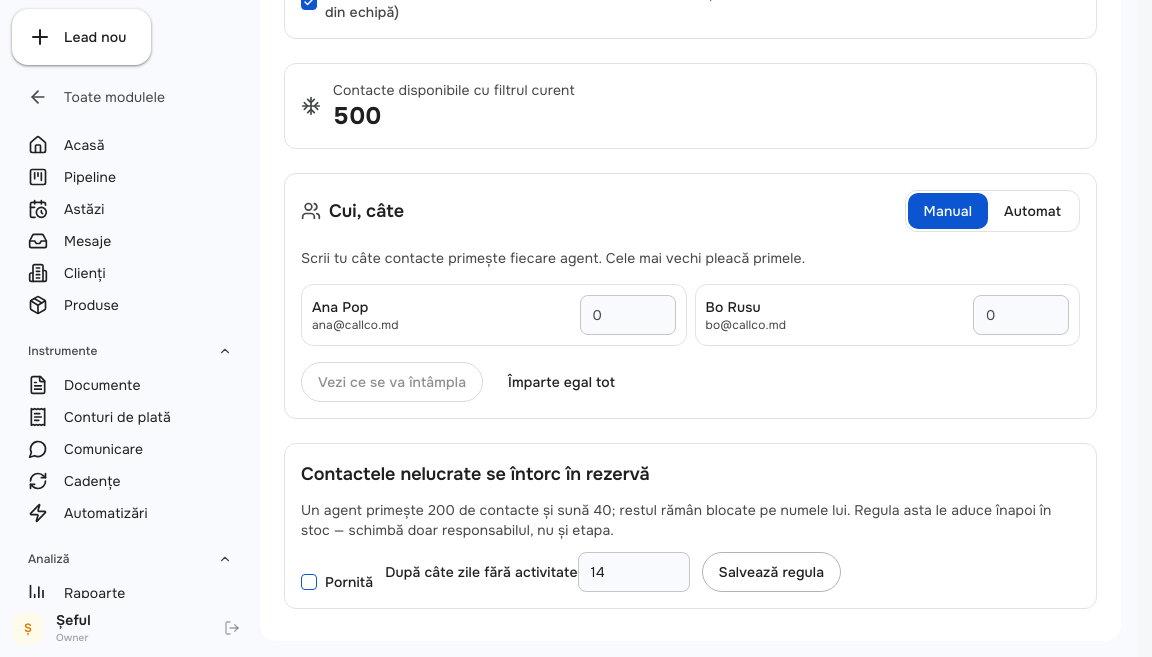
Test: Repartizarea pe loturi › repartizarea trimite alocările și raportează rezultatul
(page scrolled)
Type "200" into the number field named "Câte contacte primește Ana Pop" at (628, 315), box [580,295,676,335]
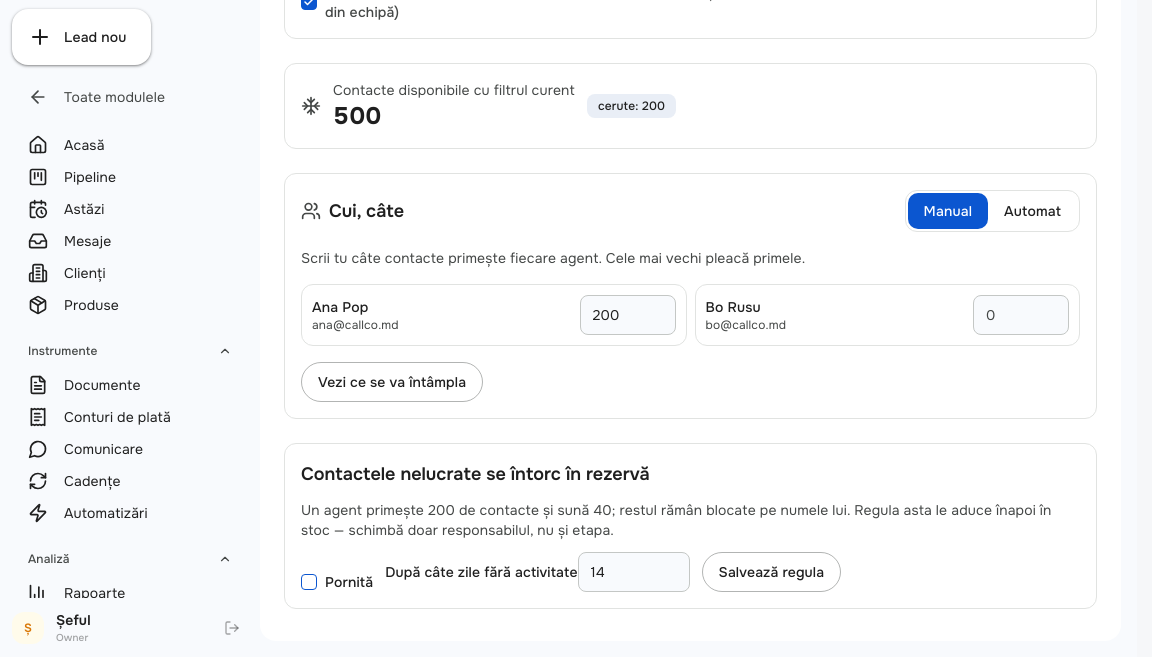
Type "150" into the number field named "Câte contacte primește Bo Rusu" at (1021, 315), box [973,295,1069,335]
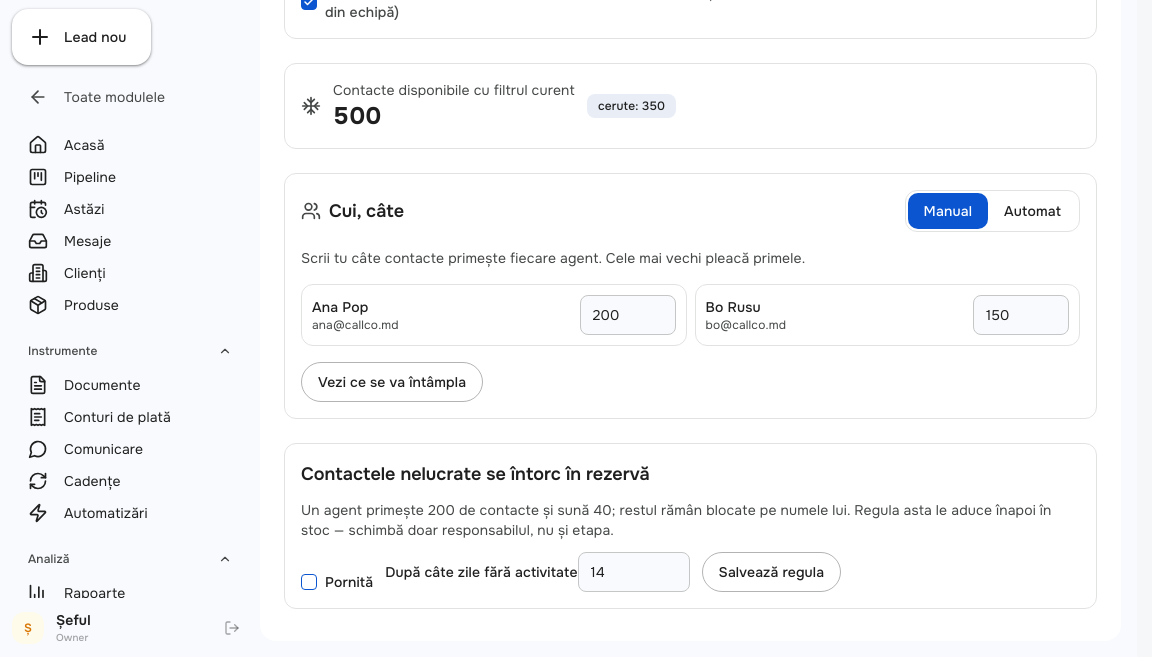
Click the button "Vezi ce se va întâmpla" at (392, 382), box [301,362,483,402]
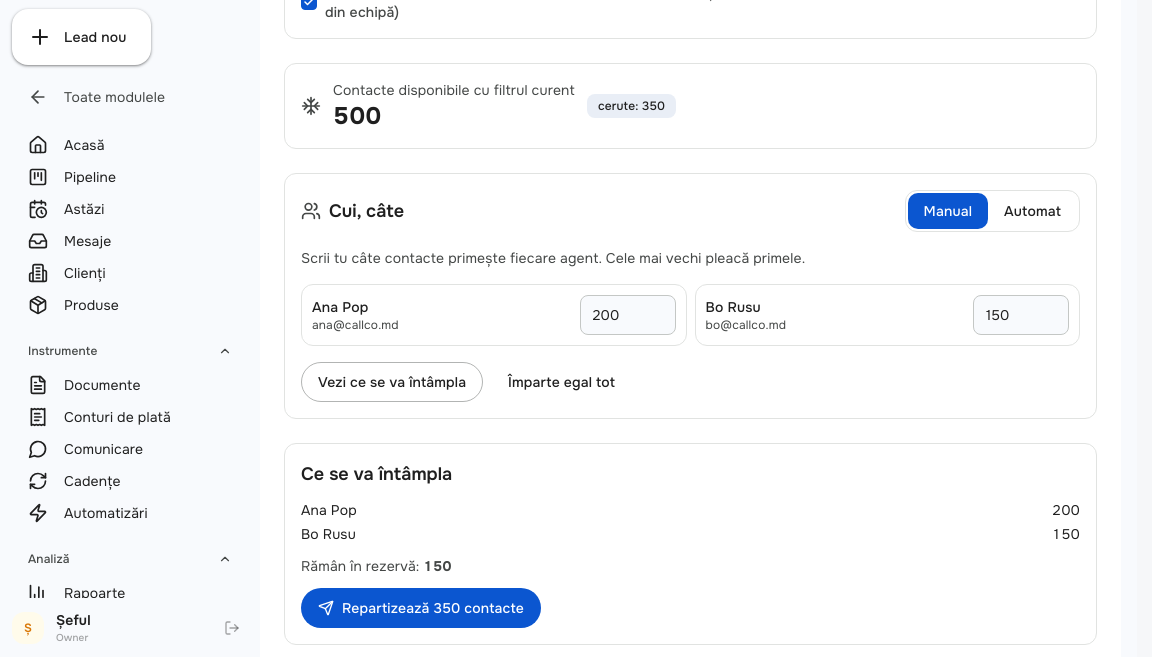
Click the button "Repartizează 350 contacte" at (421, 608), box [301,588,541,628]
(page scrolled)
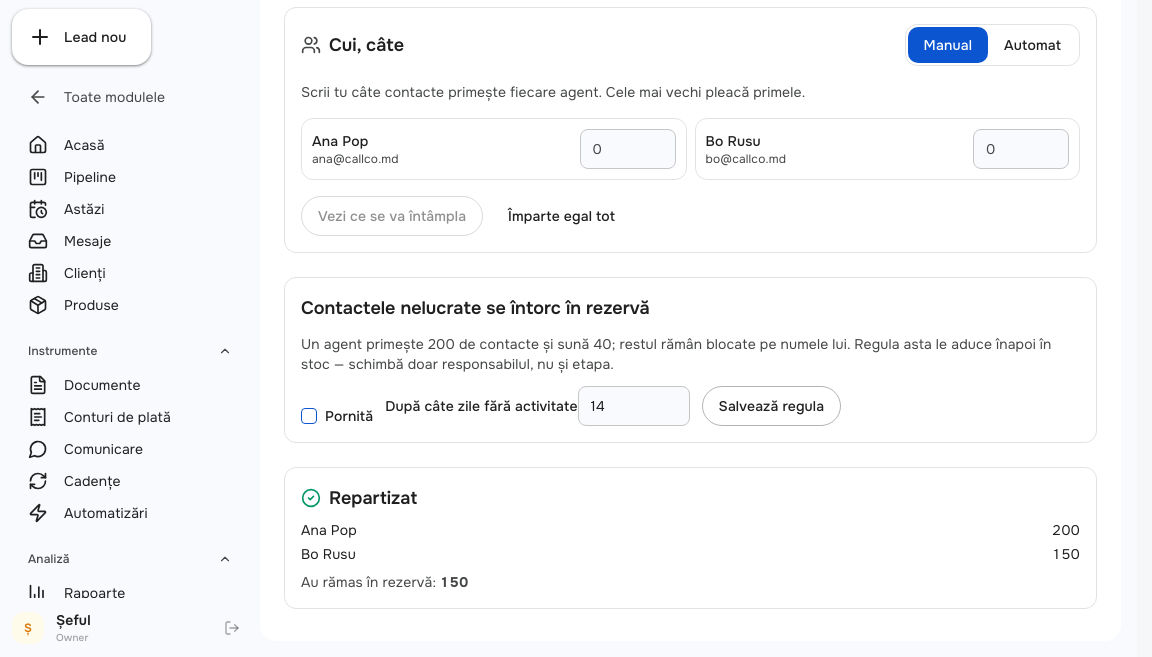
Expected: the heading "Repartizat" is shown, [329,484,417,512]
